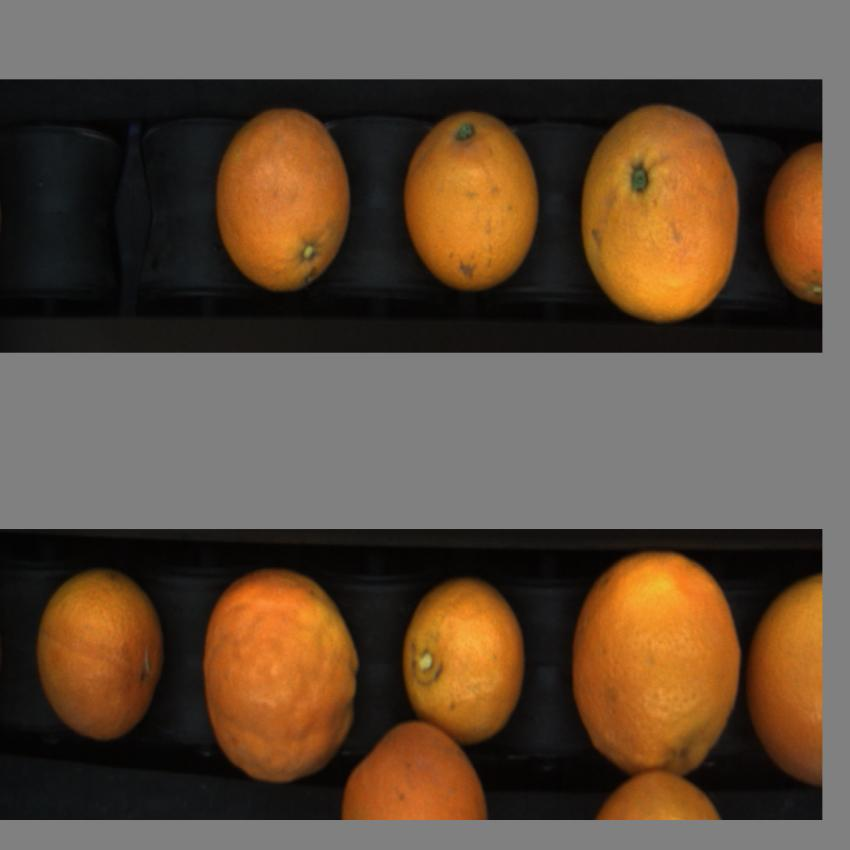Buen estado: (568, 550, 748, 781), (202, 566, 361, 782), (403, 108, 543, 291), (396, 576, 527, 743), (747, 568, 822, 784), (338, 716, 493, 818), (593, 764, 721, 818)
Mal estado: (577, 111, 744, 315), (214, 101, 352, 291), (35, 568, 171, 741), (764, 133, 822, 305)
